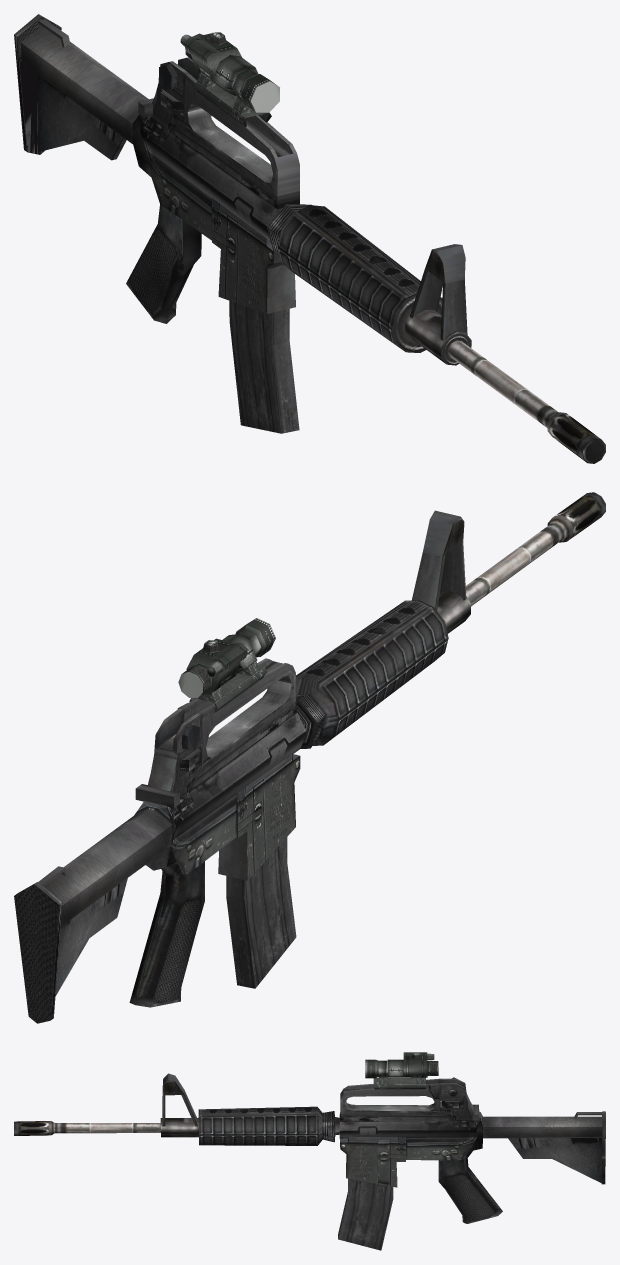
3 renders of one model, top to bottom at view 1: azimuth 30°, elevation 25°; view 2: azimuth 150°, elevation 25°; view 3: azimuth 270°, elevation 25°, orthographic. The views are drawn at different scales.
Parts seen in each view (by area): view 1: _CR15_3RD; view 2: _CR15_3RD; view 3: _CR15_3RD.
Boxes of the visible parts, x1,y1,x2,y2 form: _CR15_3RD: [14, 14, 605, 463]; _CR15_3RD: [14, 492, 605, 1023]; _CR15_3RD: [14, 1052, 605, 1250].
Size of the model in its own units: 0.0656 by 0.3633 by 1.
Materials: 3 (3 with a texture image).
